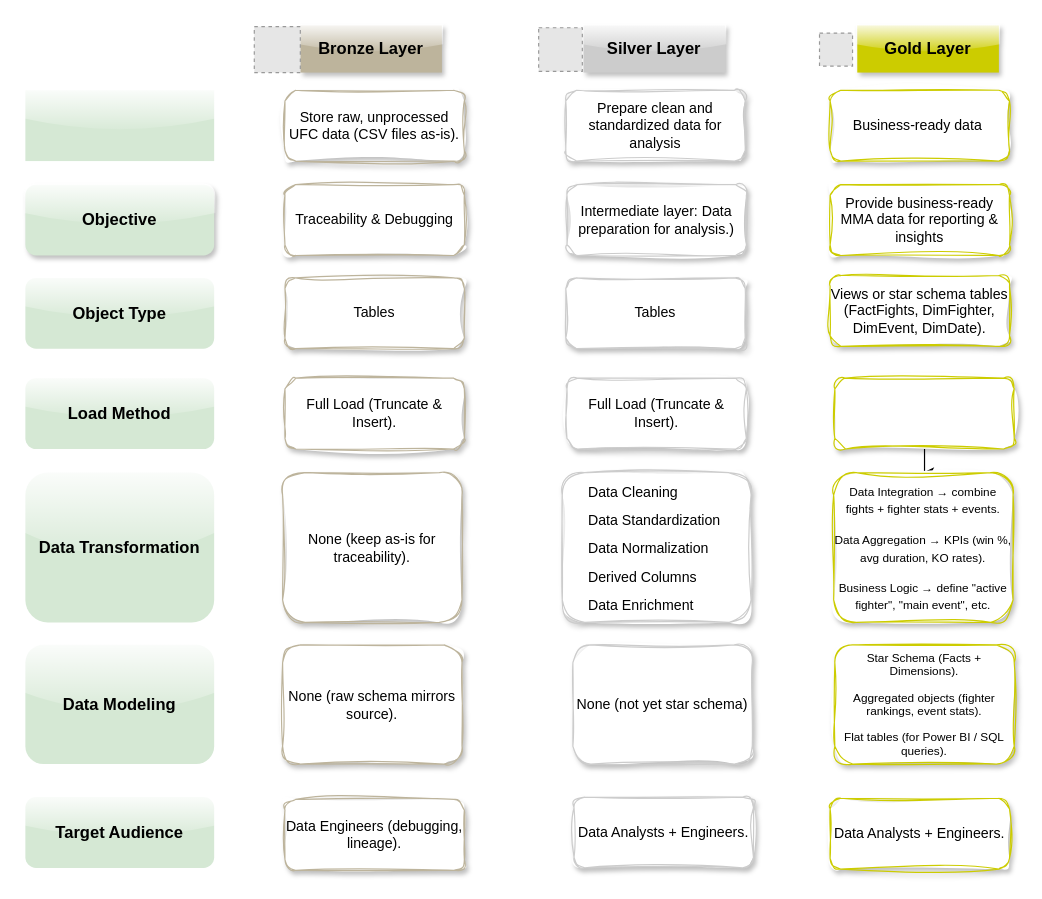
This 1042x899 diagram has some shape labels left out. Grey dashed boxes stand in for pictures. Each missing label, with the centre of its shape:
"Definition" belongs at pixel 119 125.
"Incremental or Views (no raw reload)." belongs at pixel 925 414.
